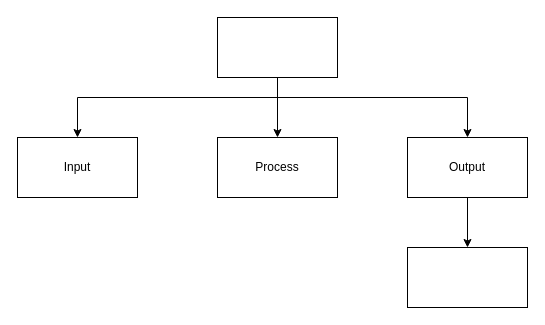
Some shapes in this 545 by 325 pixel diagram are drawn without their labels. The box of each missing label's shape, as (x1, y1, x2, y2) in pixels:
Five integers: (216, 16, 338, 78)
print integers in rows: (406, 246, 528, 308)
